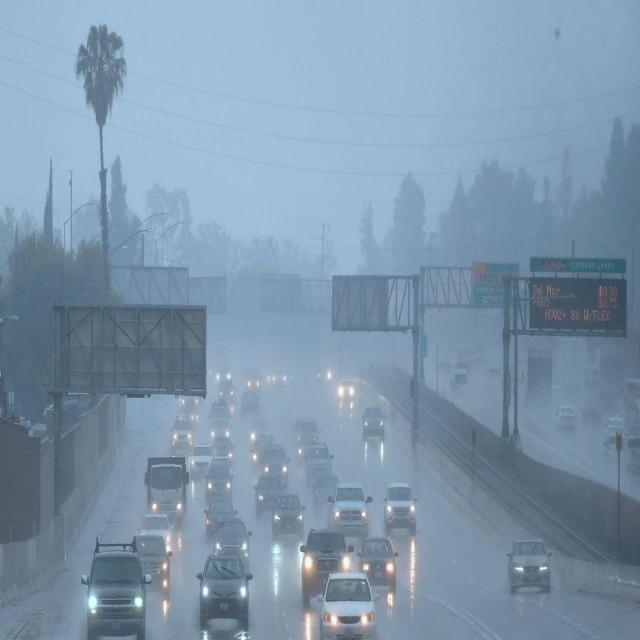Car: (80, 537, 151, 640), (298, 526, 353, 610), (316, 569, 378, 640), (197, 551, 252, 631), (506, 536, 554, 598), (130, 528, 171, 594), (328, 481, 371, 540), (211, 516, 254, 571), (358, 536, 399, 592), (383, 480, 417, 532), (271, 492, 307, 540), (205, 498, 239, 542), (254, 473, 286, 516), (206, 455, 236, 499), (305, 442, 334, 487), (312, 473, 341, 513), (262, 445, 290, 486), (190, 442, 215, 480), (361, 406, 386, 441), (171, 415, 194, 451), (294, 418, 320, 449), (251, 431, 276, 463), (208, 402, 231, 436), (210, 431, 235, 462), (250, 417, 272, 446), (556, 404, 578, 432), (217, 375, 236, 402), (241, 390, 260, 416), (337, 380, 357, 404), (244, 368, 262, 394)
Truck: (146, 459, 186, 525)
